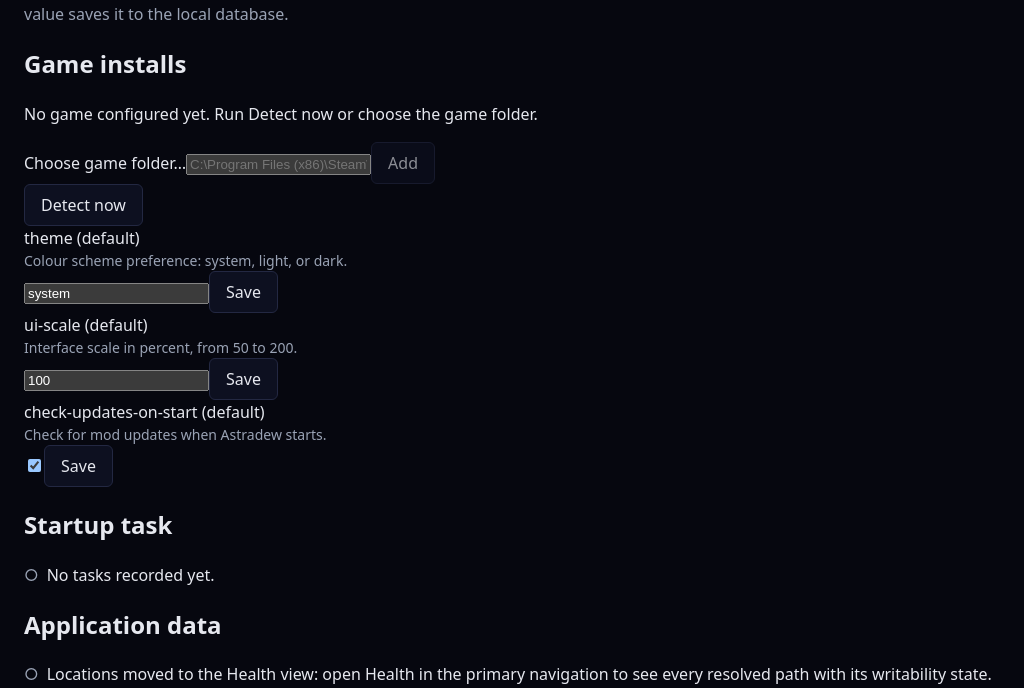
it: settings view › invalid rejection shows the typed code in an alert
(page scrolled)
Step 1. Replace the text in the number field labelled "ui-scale (default)" with "500" → x=116, y=380, box [24,370,209,391]
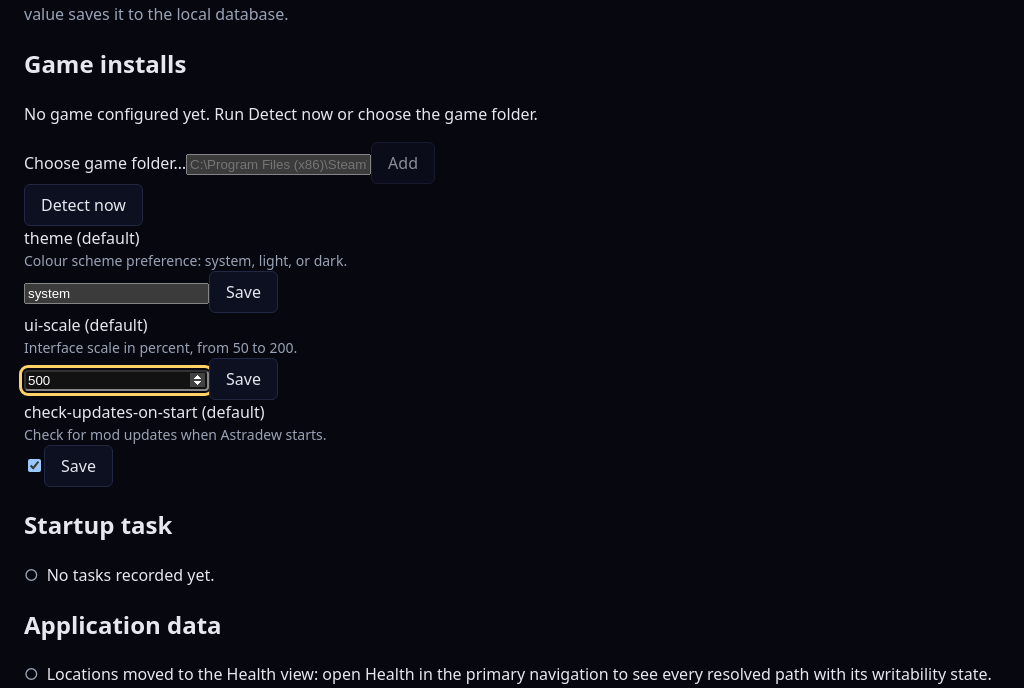
Step 2. Click the button "Save" below "ui-scale" → x=243, y=379, box [209,358,278,400]
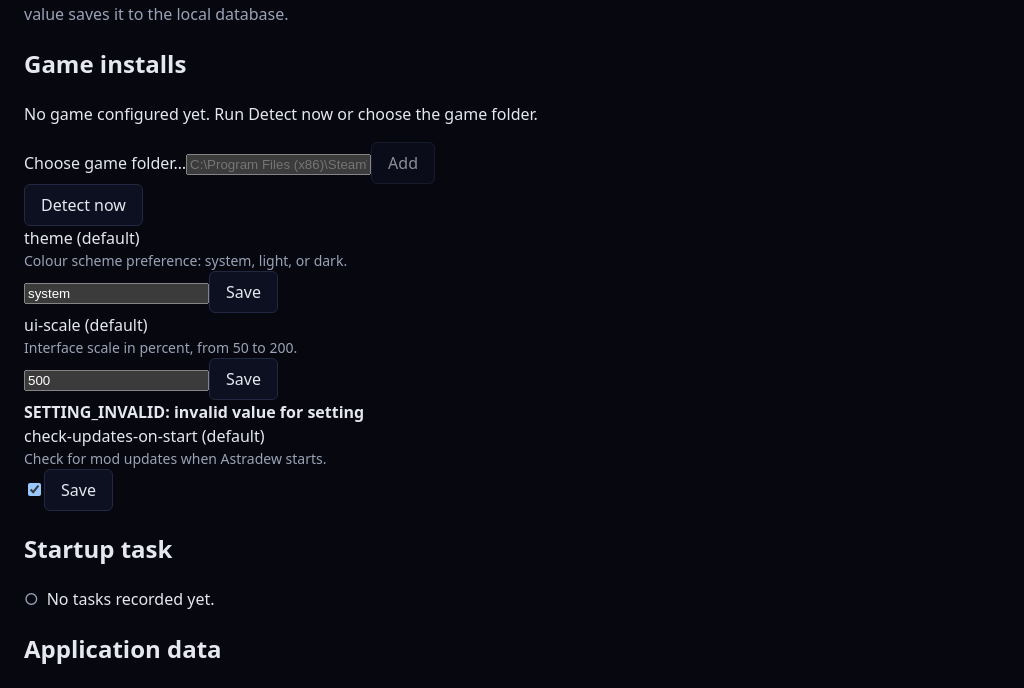
Now the message "SETTING_INVALID: invalid value for setting" is shown, box [24,401,364,423]
